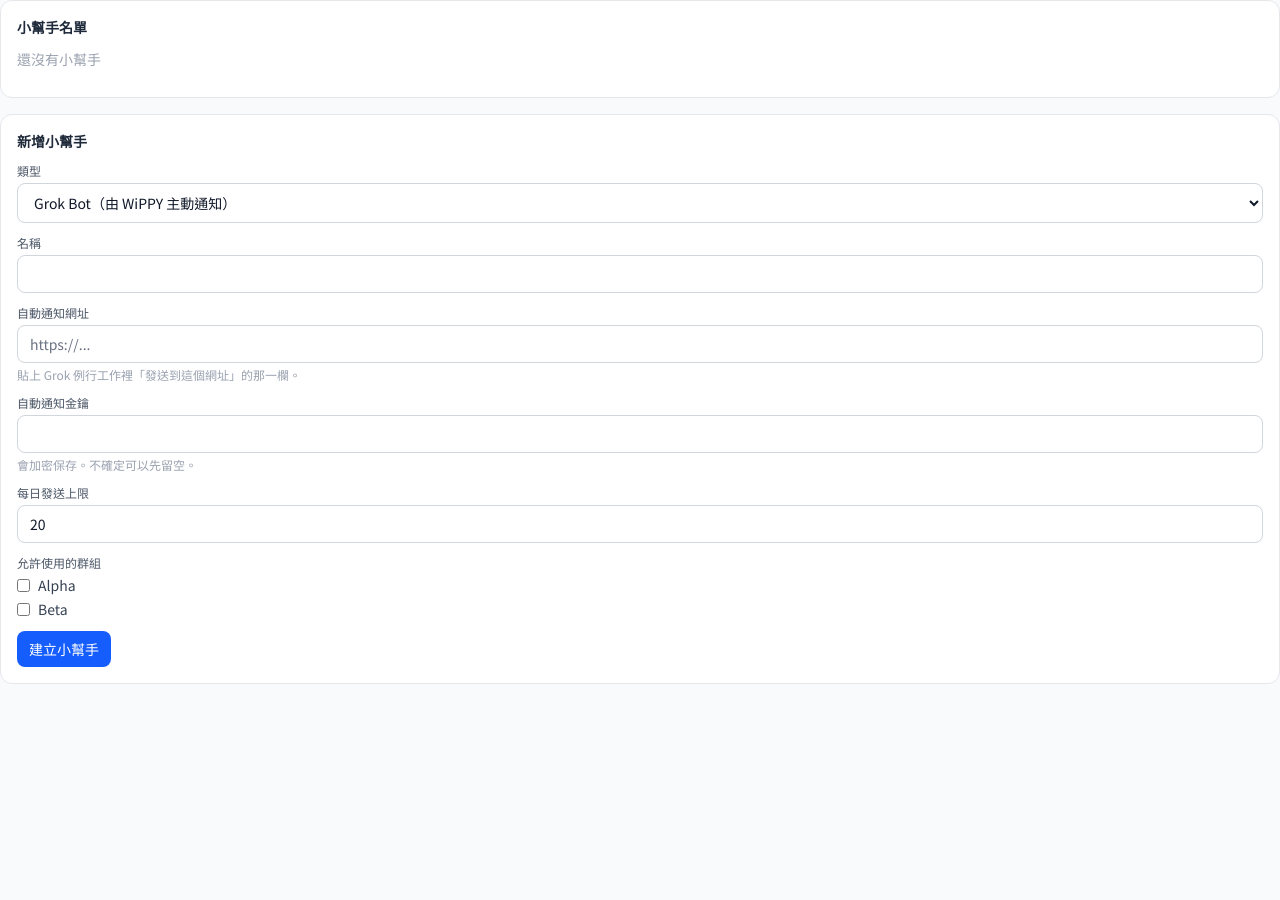
Test: AgentsPage › creates a Grok Bot and shows its API key and MCP URL once
This screenshot has width=1280, height=900.
Type "Grok" into the field labelled "名稱".
click(640, 274); type("Grok")  # box [17,255,1263,293]
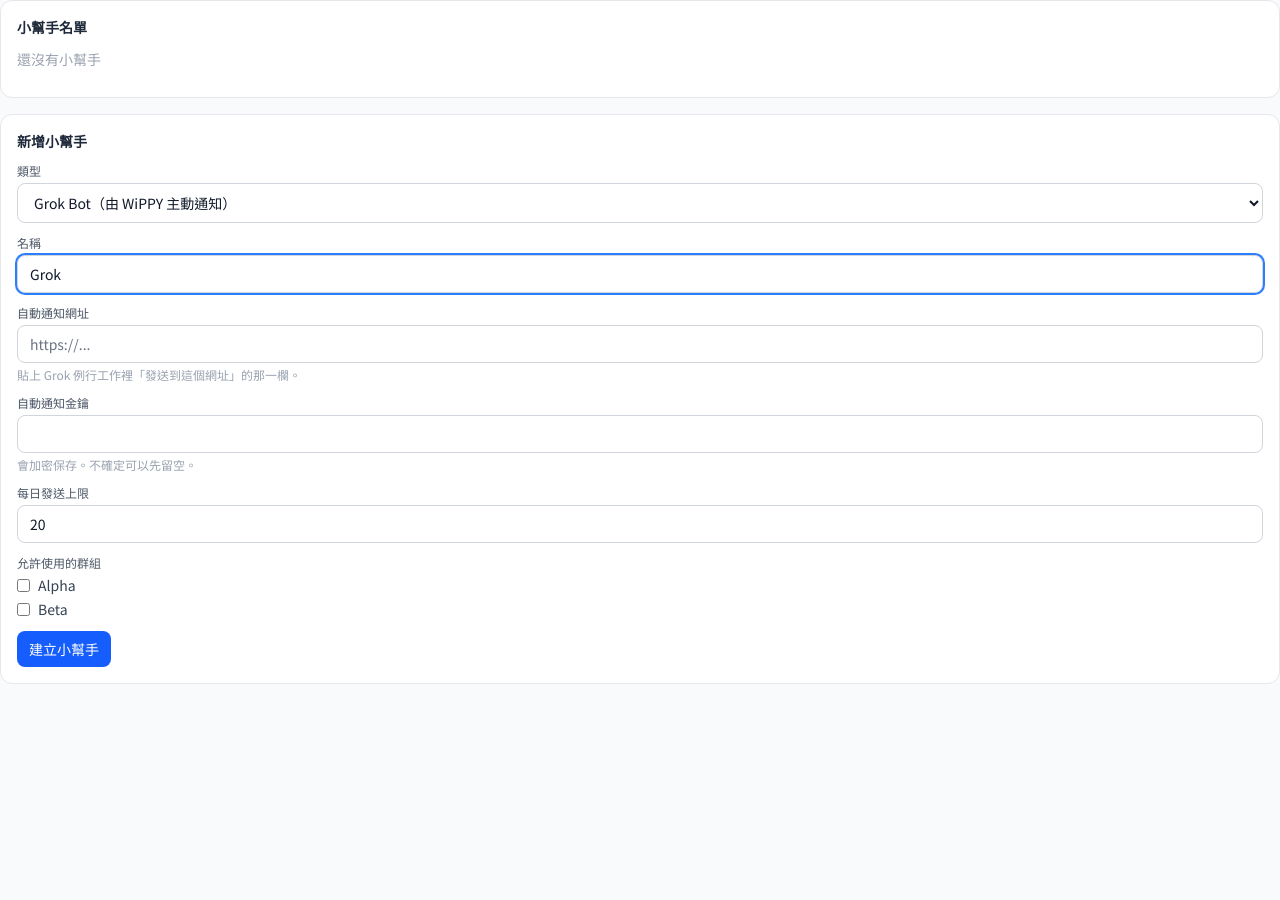
Type "https://grok.example/r" into the field labelled "自動通知網址".
click(640, 344); type("https://grok.example/r")  # box [17,325,1263,363]
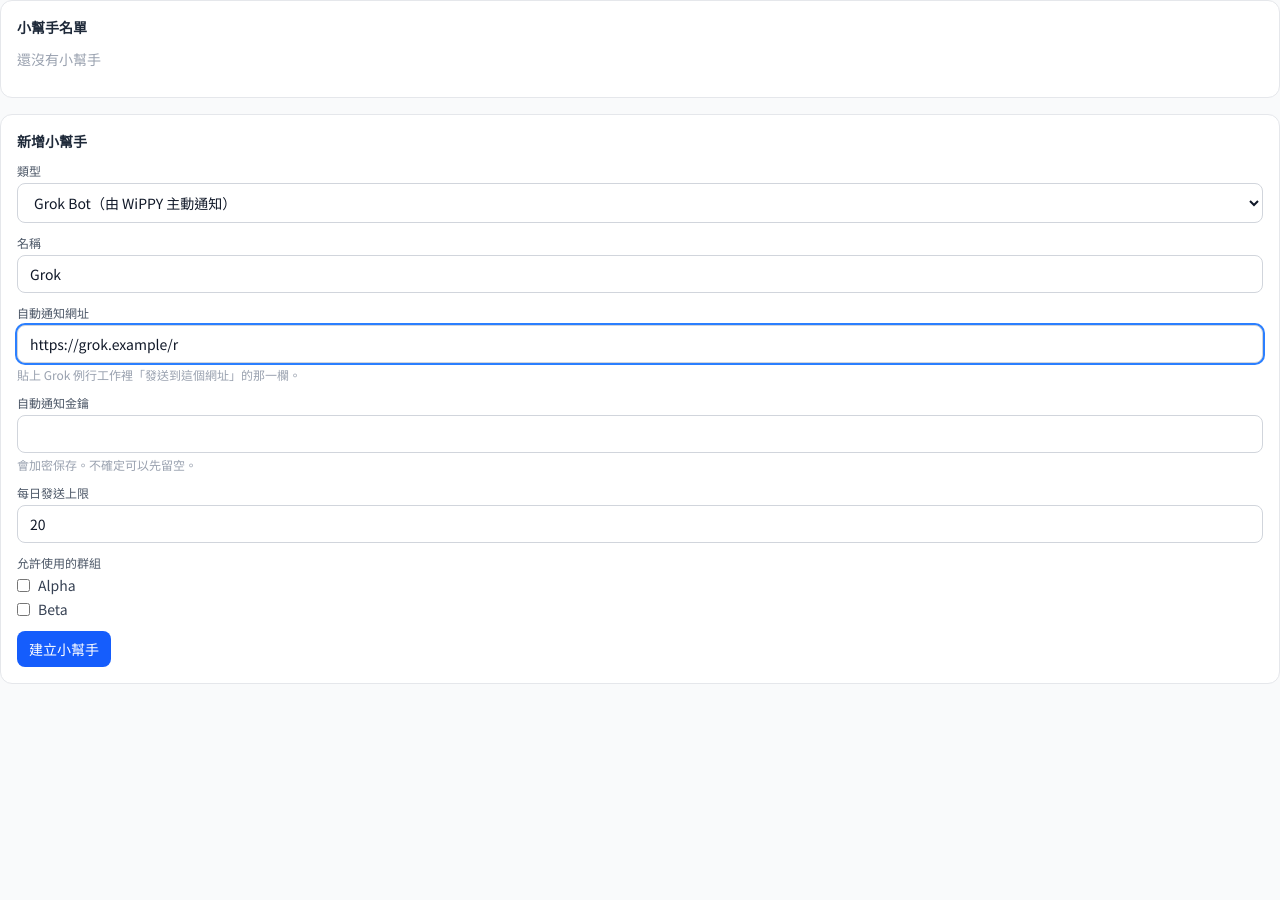
Type "rk" into the password field labelled "自動通知金鑰".
click(640, 434); type("rk")  # box [17,415,1263,453]
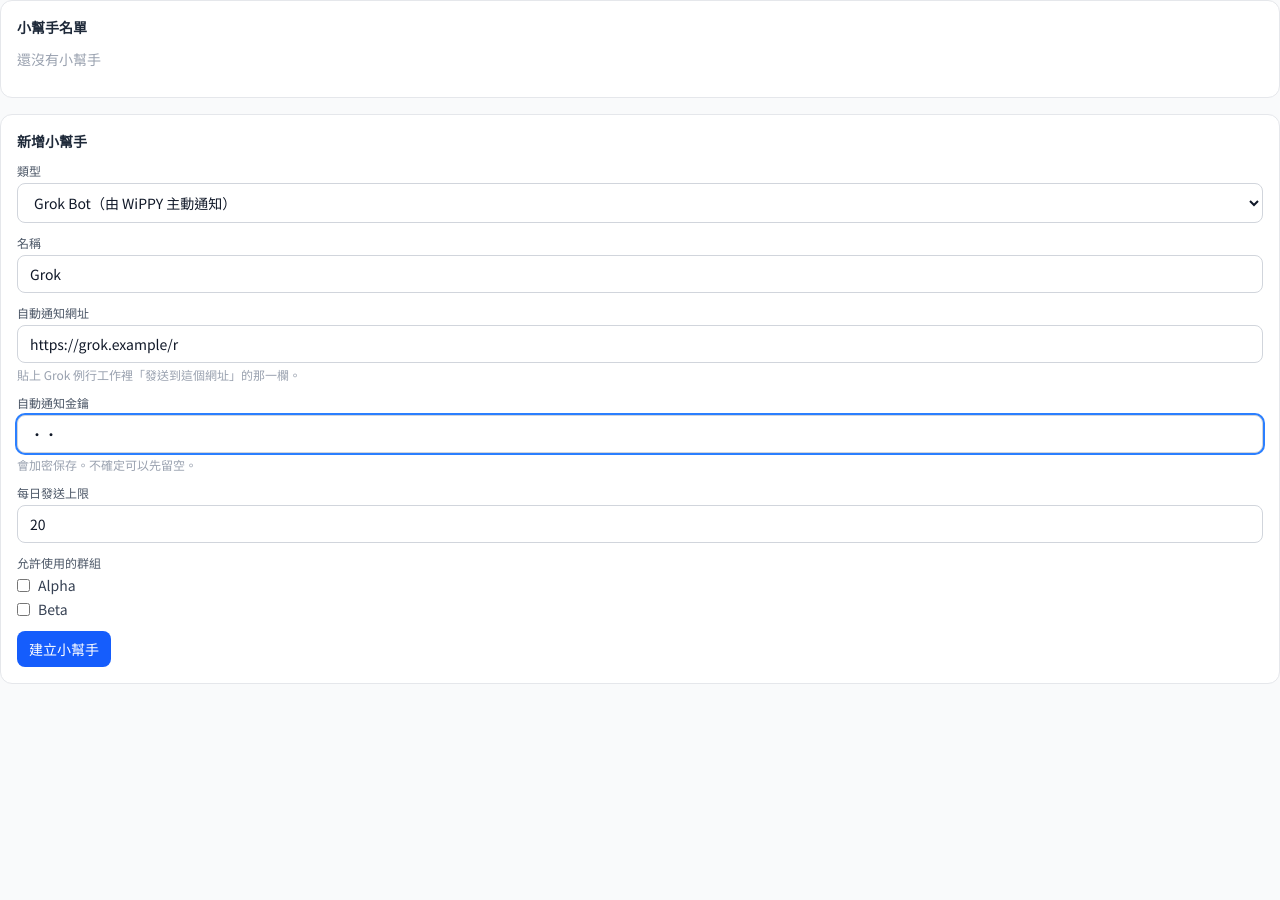
Click the checkbox labelled "Beta".
click(24, 609)  # box [17,602,30,616]
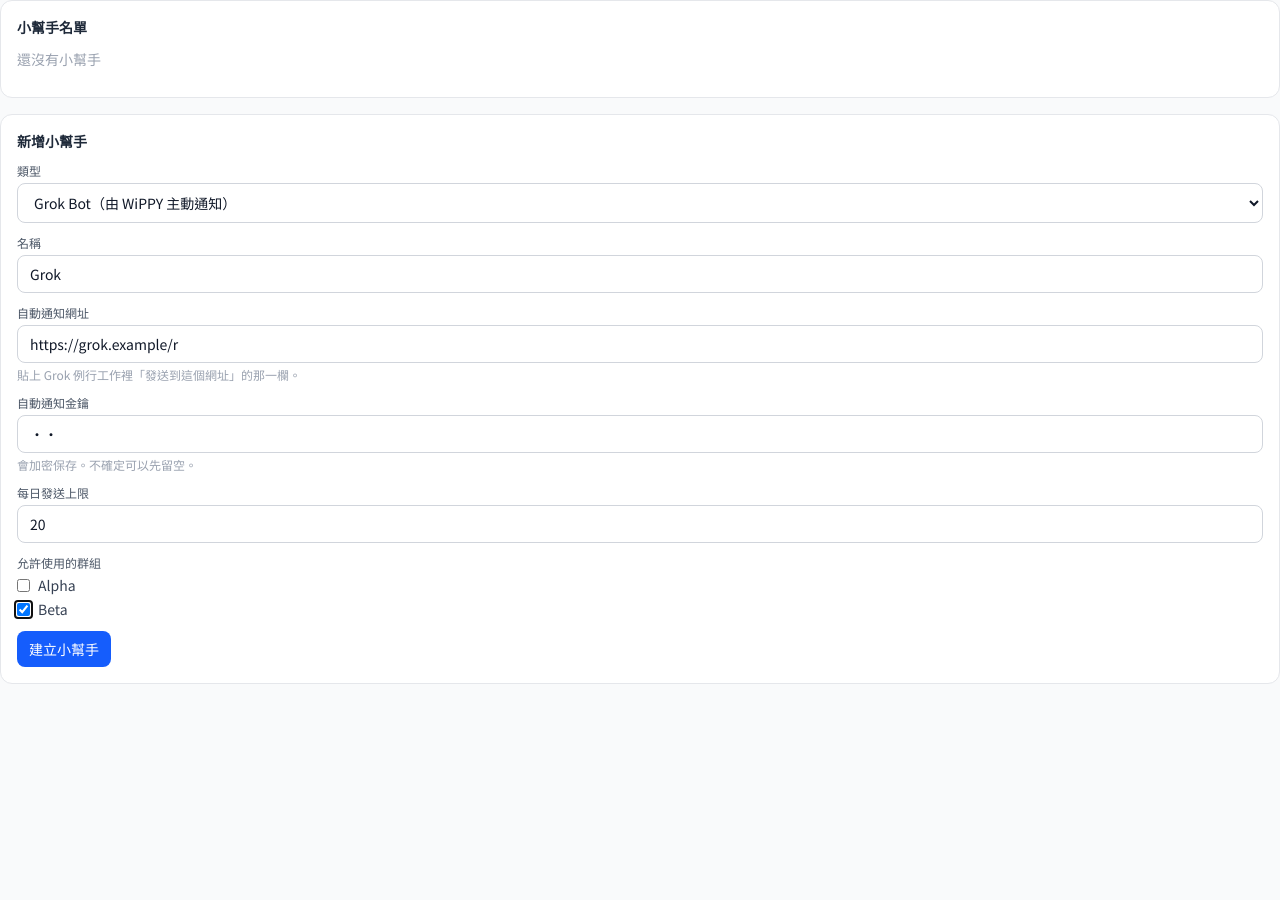
Click the button "建立小幫手".
click(64, 649)  # box [17,631,111,667]
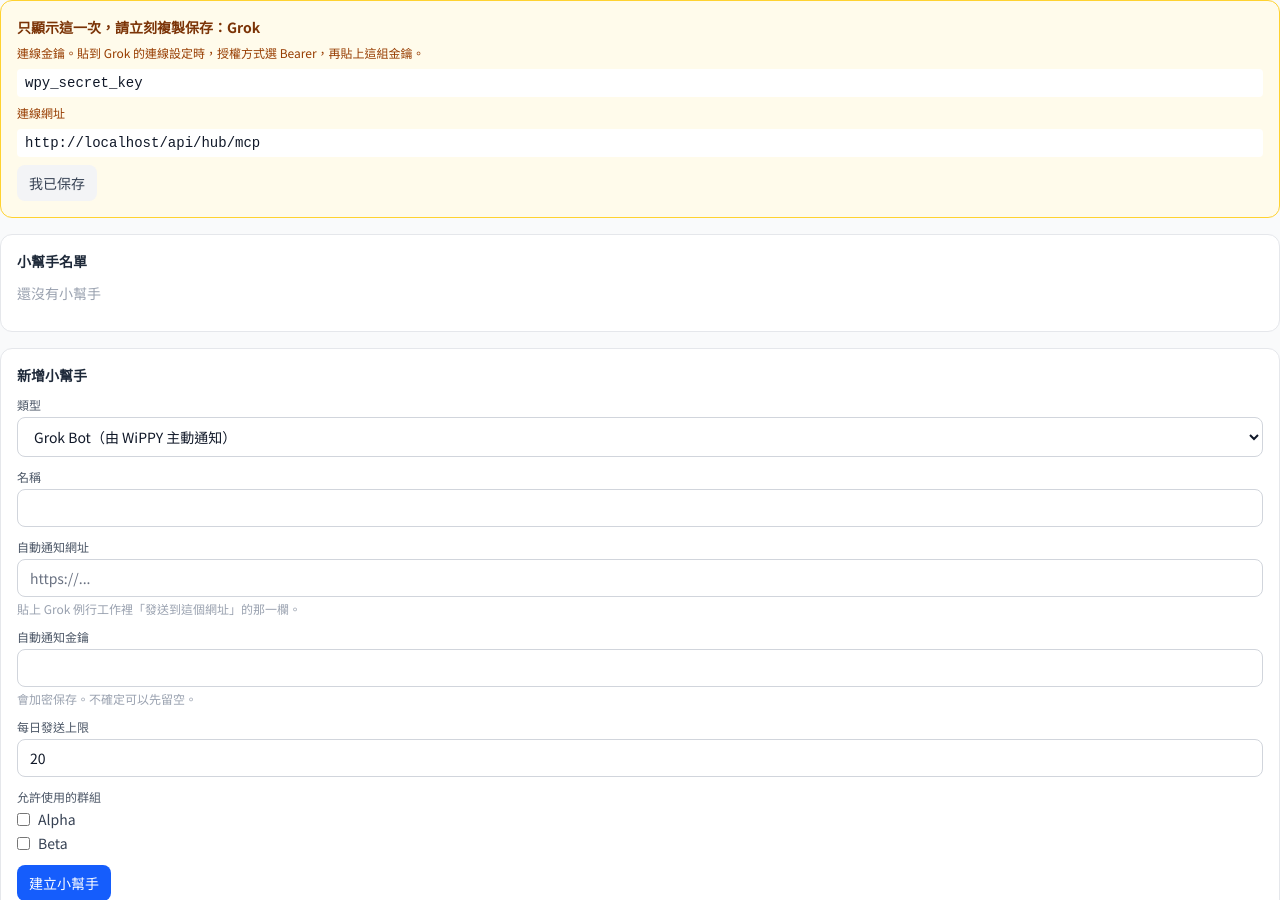
Expected: the text "wpy_secret_key" is shown, [17,69,1263,97]
Expected: the text "/api/hub/mcp" is shown, [25,135,260,151]
